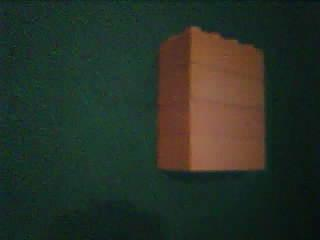lego: (154, 26, 266, 173)
